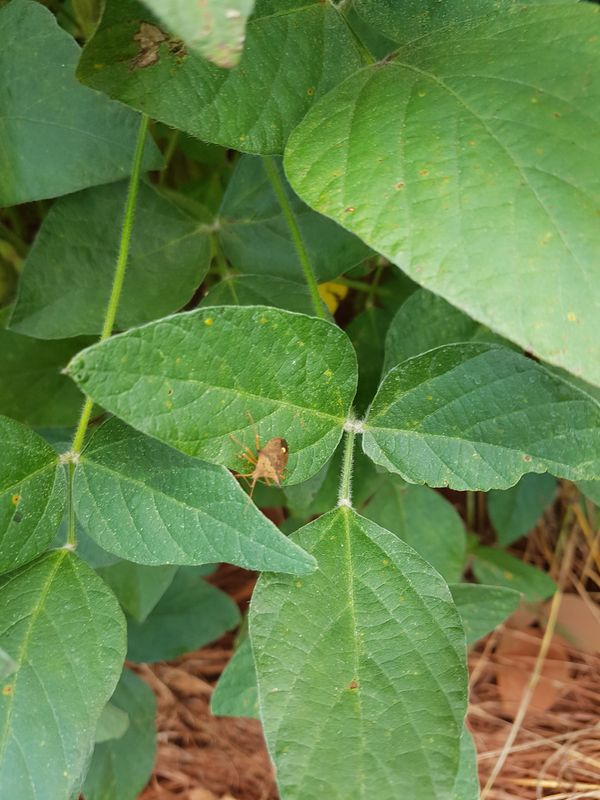Euschistus_heros_adulto: (227, 420, 300, 507)
